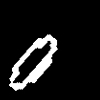chain: (9, 35, 56, 90)
